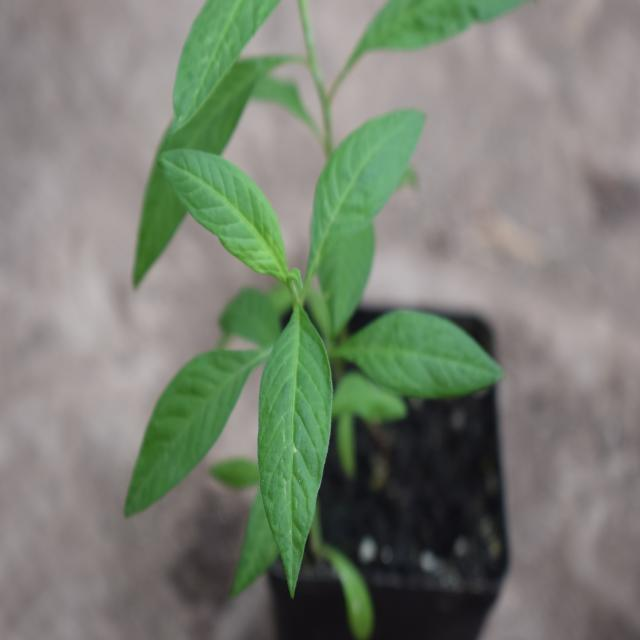white_smart_weed: (126, 115, 473, 578)
